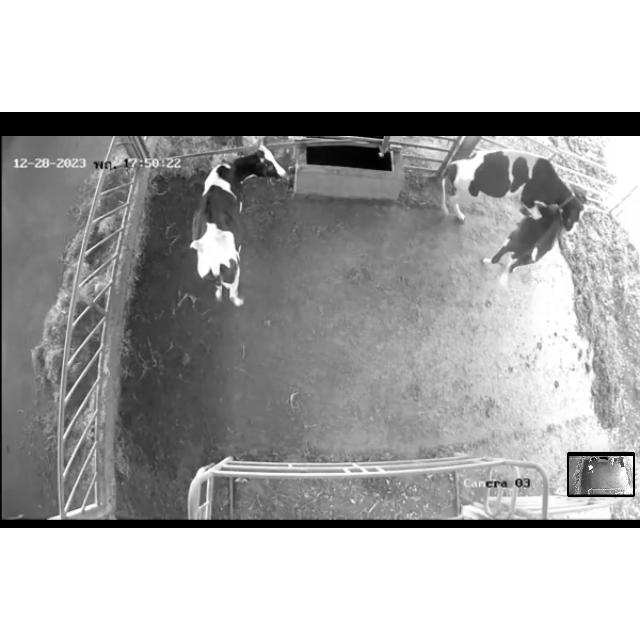ride: (432, 146, 590, 242)
